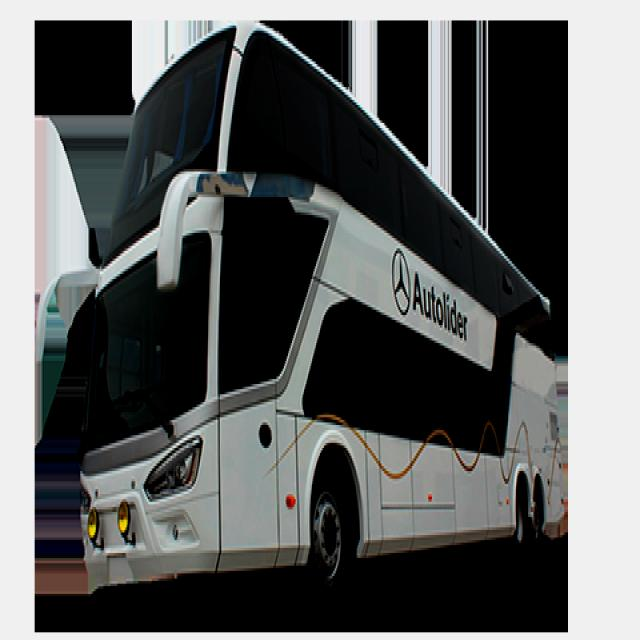BUS: (49, 15, 561, 611)
